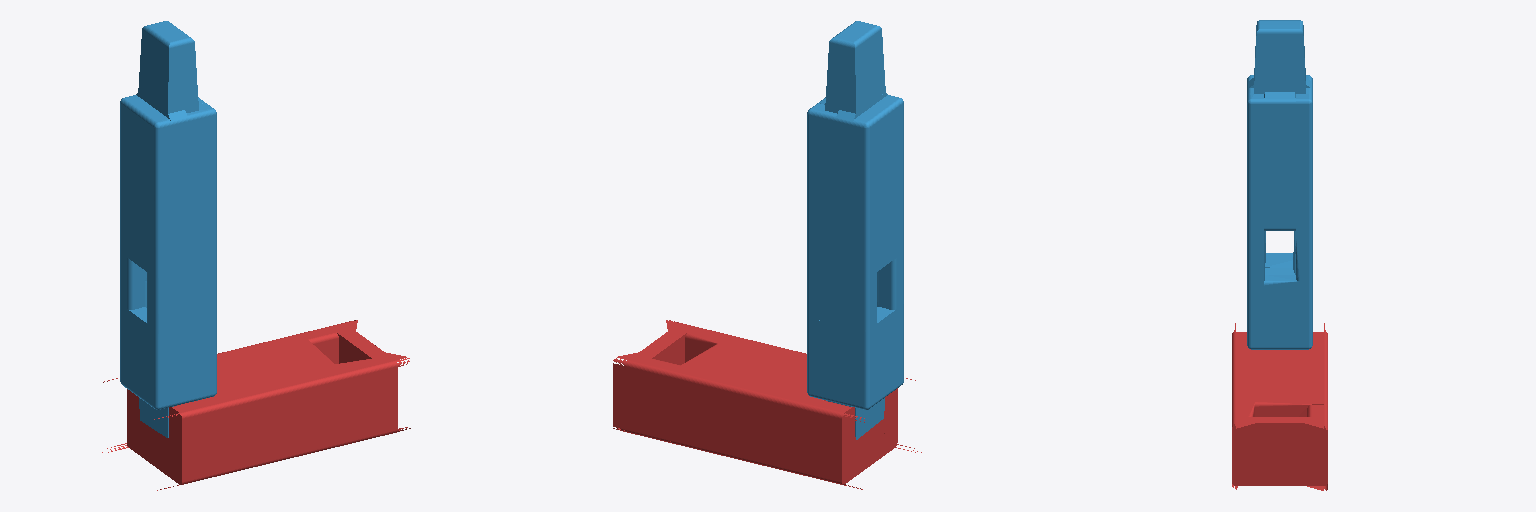
robot.urdf — fixture_beam_3x_part_0:
<?xml version="1.0" encoding="utf-8"?>
<robot name="fixture_beam_3x_part_0">
  <link name="root"/>
  <material name="part_6">
    <color rgba="0.8500 0.3000 0.3000 1.0000"/>
  </material>
  <link name="part_6">
    <visual>
      <origin xyz="0 0 0" rpy="0 0 0"/>
      <geometry>
        <mesh filename="../6/coacd/decomp_1.obj" scale="1 1 1"/>
      </geometry>
      <material name="part_6"/>
    </visual>
    <collision>
      <origin xyz="0 0 0" rpy="0 0 0"/>
      <geometry>
        <mesh filename="../6/coacd/decomp_1.obj" scale="1 1 1"/>
      </geometry>
    </collision>
    <visual>
      <origin xyz="0 0 0" rpy="0 0 0"/>
      <geometry>
        <mesh filename="../6/coacd/decomp_10.obj" scale="1 1 1"/>
      </geometry>
      <material name="part_6"/>
    </visual>
    <collision>
      <origin xyz="0 0 0" rpy="0 0 0"/>
      <geometry>
        <mesh filename="../6/coacd/decomp_10.obj" scale="1 1 1"/>
      </geometry>
    </collision>
    <visual>
      <origin xyz="0 0 0" rpy="0 0 0"/>
      <geometry>
        <mesh filename="../6/coacd/decomp_11.obj" scale="1 1 1"/>
      </geometry>
      <material name="part_6"/>
    </visual>
    <collision>
      <origin xyz="0 0 0" rpy="0 0 0"/>
      <geometry>
        <mesh filename="../6/coacd/decomp_11.obj" scale="1 1 1"/>
      </geometry>
    </collision>
    <visual>
      <origin xyz="0 0 0" rpy="0 0 0"/>
      <geometry>
        <mesh filename="../6/coacd/decomp_2.obj" scale="1 1 1"/>
      </geometry>
      <material name="part_6"/>
    </visual>
    <collision>
      <origin xyz="0 0 0" rpy="0 0 0"/>
      <geometry>
        <mesh filename="../6/coacd/decomp_2.obj" scale="1 1 1"/>
      </geometry>
    </collision>
    <visual>
      <origin xyz="0 0 0" rpy="0 0 0"/>
      <geometry>
        <mesh filename="../6/coacd/decomp_4.obj" scale="1 1 1"/>
      </geometry>
      <material name="part_6"/>
    </visual>
    <collision>
      <origin xyz="0 0 0" rpy="0 0 0"/>
      <geometry>
        <mesh filename="../6/coacd/decomp_4.obj" scale="1 1 1"/>
      </geometry>
    </collision>
    <visual>
      <origin xyz="0 0 0" rpy="0 0 0"/>
      <geometry>
        <mesh filename="../6/coacd/decomp_5.obj" scale="1 1 1"/>
      </geometry>
      <material name="part_6"/>
    </visual>
    <collision>
      <origin xyz="0 0 0" rpy="0 0 0"/>
      <geometry>
        <mesh filename="../6/coacd/decomp_5.obj" scale="1 1 1"/>
      </geometry>
    </collision>
    <visual>
      <origin xyz="0 0 0" rpy="0 0 0"/>
      <geometry>
        <mesh filename="../6/coacd/decomp_6.obj" scale="1 1 1"/>
      </geometry>
      <material name="part_6"/>
    </visual>
    <collision>
      <origin xyz="0 0 0" rpy="0 0 0"/>
      <geometry>
        <mesh filename="../6/coacd/decomp_6.obj" scale="1 1 1"/>
      </geometry>
    </collision>
    <visual>
      <origin xyz="0 0 0" rpy="0 0 0"/>
      <geometry>
        <mesh filename="../6/coacd/decomp_8.obj" scale="1 1 1"/>
      </geometry>
      <material name="part_6"/>
    </visual>
    <collision>
      <origin xyz="0 0 0" rpy="0 0 0"/>
      <geometry>
        <mesh filename="../6/coacd/decomp_8.obj" scale="1 1 1"/>
      </geometry>
    </collision>
    <visual>
      <origin xyz="0 0 0" rpy="0 0 0"/>
      <geometry>
        <mesh filename="../6/coacd/decomp_9.obj" scale="1 1 1"/>
      </geometry>
      <material name="part_6"/>
    </visual>
    <collision>
      <origin xyz="0 0 0" rpy="0 0 0"/>
      <geometry>
        <mesh filename="../6/coacd/decomp_9.obj" scale="1 1 1"/>
      </geometry>
    </collision>
  </link>
  <joint name="root_to_part_6" type="fixed">
    <parent link="root"/>
    <child link="part_6"/>
    <origin xyz="-0.000000 -0.000000 0.018998" rpy="0.000000 0.000000 0.000000"/>
  </joint>
  <material name="part_2">
    <color rgba="0.3000 0.6500 0.8500 1.0000"/>
  </material>
  <link name="part_2">
    <visual>
      <origin xyz="0 0 0" rpy="0 0 0"/>
      <geometry>
        <mesh filename="../2/coacd/decomp_0.obj" scale="1 1 1"/>
      </geometry>
      <material name="part_2"/>
    </visual>
    <collision>
      <origin xyz="0 0 0" rpy="0 0 0"/>
      <geometry>
        <mesh filename="../2/coacd/decomp_0.obj" scale="1 1 1"/>
      </geometry>
    </collision>
    <visual>
      <origin xyz="0 0 0" rpy="0 0 0"/>
      <geometry>
        <mesh filename="../2/coacd/decomp_1.obj" scale="1 1 1"/>
      </geometry>
      <material name="part_2"/>
    </visual>
    <collision>
      <origin xyz="0 0 0" rpy="0 0 0"/>
      <geometry>
        <mesh filename="../2/coacd/decomp_1.obj" scale="1 1 1"/>
      </geometry>
    </collision>
    <visual>
      <origin xyz="0 0 0" rpy="0 0 0"/>
      <geometry>
        <mesh filename="../2/coacd/decomp_10.obj" scale="1 1 1"/>
      </geometry>
      <material name="part_2"/>
    </visual>
    <collision>
      <origin xyz="0 0 0" rpy="0 0 0"/>
      <geometry>
        <mesh filename="../2/coacd/decomp_10.obj" scale="1 1 1"/>
      </geometry>
    </collision>
    <visual>
      <origin xyz="0 0 0" rpy="0 0 0"/>
      <geometry>
        <mesh filename="../2/coacd/decomp_11.obj" scale="1 1 1"/>
      </geometry>
      <material name="part_2"/>
    </visual>
    <collision>
      <origin xyz="0 0 0" rpy="0 0 0"/>
      <geometry>
        <mesh filename="../2/coacd/decomp_11.obj" scale="1 1 1"/>
      </geometry>
    </collision>
    <visual>
      <origin xyz="0 0 0" rpy="0 0 0"/>
      <geometry>
        <mesh filename="../2/coacd/decomp_12.obj" scale="1 1 1"/>
      </geometry>
      <material name="part_2"/>
    </visual>
    <collision>
      <origin xyz="0 0 0" rpy="0 0 0"/>
      <geometry>
        <mesh filename="../2/coacd/decomp_12.obj" scale="1 1 1"/>
      </geometry>
    </collision>
    <visual>
      <origin xyz="0 0 0" rpy="0 0 0"/>
      <geometry>
        <mesh filename="../2/coacd/decomp_13.obj" scale="1 1 1"/>
      </geometry>
      <material name="part_2"/>
    </visual>
    <collision>
      <origin xyz="0 0 0" rpy="0 0 0"/>
      <geometry>
        <mesh filename="../2/coacd/decomp_13.obj" scale="1 1 1"/>
      </geometry>
    </collision>
    <visual>
      <origin xyz="0 0 0" rpy="0 0 0"/>
      <geometry>
        <mesh filename="../2/coacd/decomp_14.obj" scale="1 1 1"/>
      </geometry>
      <material name="part_2"/>
    </visual>
    <collision>
      <origin xyz="0 0 0" rpy="0 0 0"/>
      <geometry>
        <mesh filename="../2/coacd/decomp_14.obj" scale="1 1 1"/>
      </geometry>
    </collision>
    <visual>
      <origin xyz="0 0 0" rpy="0 0 0"/>
      <geometry>
        <mesh filename="../2/coacd/decomp_15.obj" scale="1 1 1"/>
      </geometry>
      <material name="part_2"/>
    </visual>
    <collision>
      <origin xyz="0 0 0" rpy="0 0 0"/>
      <geometry>
        <mesh filename="../2/coacd/decomp_15.obj" scale="1 1 1"/>
      </geometry>
    </collision>
    <visual>
      <origin xyz="0 0 0" rpy="0 0 0"/>
      <geometry>
        <mesh filename="../2/coacd/decomp_2.obj" scale="1 1 1"/>
      </geometry>
      <material name="part_2"/>
    </visual>
    <collision>
      <origin xyz="0 0 0" rpy="0 0 0"/>
      <geometry>
        <mesh filename="../2/coacd/decomp_2.obj" scale="1 1 1"/>
      </geometry>
    </collision>
    <visual>
      <origin xyz="0 0 0" rpy="0 0 0"/>
      <geometry>
        <mesh filename="../2/coacd/decomp_3.obj" scale="1 1 1"/>
      </geometry>
      <material name="part_2"/>
    </visual>
    <collision>
      <origin xyz="0 0 0" rpy="0 0 0"/>
      <geometry>
        <mesh filename="../2/coacd/decomp_3.obj" scale="1 1 1"/>
      </geometry>
    </collision>
    <visual>
      <origin xyz="0 0 0" rpy="0 0 0"/>
      <geometry>
        <mesh filename="../2/coacd/decomp_4.obj" scale="1 1 1"/>
      </geometry>
      <material name="part_2"/>
    </visual>
    <collision>
      <origin xyz="0 0 0" rpy="0 0 0"/>
      <geometry>
        <mesh filename="../2/coacd/decomp_4.obj" scale="1 1 1"/>
      </geometry>
    </collision>
    <visual>
      <origin xyz="0 0 0" rpy="0 0 0"/>
      <geometry>
        <mesh filename="../2/coacd/decomp_5.obj" scale="1 1 1"/>
      </geometry>
      <material name="part_2"/>
    </visual>
    <collision>
      <origin xyz="0 0 0" rpy="0 0 0"/>
      <geometry>
        <mesh filename="../2/coacd/decomp_5.obj" scale="1 1 1"/>
      </geometry>
    </collision>
    <visual>
      <origin xyz="0 0 0" rpy="0 0 0"/>
      <geometry>
        <mesh filename="../2/coacd/decomp_6.obj" scale="1 1 1"/>
      </geometry>
      <material name="part_2"/>
    </visual>
    <collision>
      <origin xyz="0 0 0" rpy="0 0 0"/>
      <geometry>
        <mesh filename="../2/coacd/decomp_6.obj" scale="1 1 1"/>
      </geometry>
    </collision>
    <visual>
      <origin xyz="0 0 0" rpy="0 0 0"/>
      <geometry>
        <mesh filename="../2/coacd/decomp_7.obj" scale="1 1 1"/>
      </geometry>
      <material name="part_2"/>
    </visual>
    <collision>
      <origin xyz="0 0 0" rpy="0 0 0"/>
      <geometry>
        <mesh filename="../2/coacd/decomp_7.obj" scale="1 1 1"/>
      </geometry>
    </collision>
    <visual>
      <origin xyz="0 0 0" rpy="0 0 0"/>
      <geometry>
        <mesh filename="../2/coacd/decomp_8.obj" scale="1 1 1"/>
      </geometry>
      <material name="part_2"/>
    </visual>
    <collision>
      <origin xyz="0 0 0" rpy="0 0 0"/>
      <geometry>
        <mesh filename="../2/coacd/decomp_8.obj" scale="1 1 1"/>
      </geometry>
    </collision>
    <visual>
      <origin xyz="0 0 0" rpy="0 0 0"/>
      <geometry>
        <mesh filename="../2/coacd/decomp_9.obj" scale="1 1 1"/>
      </geometry>
      <material name="part_2"/>
    </visual>
    <collision>
      <origin xyz="0 0 0" rpy="0 0 0"/>
      <geometry>
        <mesh filename="../2/coacd/decomp_9.obj" scale="1 1 1"/>
      </geometry>
    </collision>
  </link>
  <joint name="root_to_part_2" type="fixed">
    <parent link="root"/>
    <child link="part_2"/>
    <origin xyz="-0.047625 -0.000000 0.113075" rpy="0.000000 -1.570796 0.000000"/>
  </joint>
</robot>

--- What the picture shows (computed from the rendered views, not written in the file) ---
3 views of the same robot in one strip: view 1: azimuth 30°, elevation 25°; view 2: azimuth 150°, elevation 25°; view 3: azimuth 270°, elevation 25° (orthographic).
Model fixture_beam_3x_part_0 with 3 links and 2 joints (2 fixed), rooted at root, posed all joints at 0.
Visible links, largest first — view 1: part_2, part_6; view 2: part_2, part_6; view 3: part_2, part_6.
Boxes of the visible links, x1,y1,x2,y2 form: part_2: [120, 21, 216, 437]; part_6: [102, 320, 410, 490]; part_2: [807, 21, 903, 439]; part_6: [613, 320, 921, 489]; part_2: [1247, 20, 1312, 349]; part_6: [1232, 323, 1327, 490].
Bounding box of the posed robot: 0.1415 × 0.0533 × 0.2286 m (x, y, z).
25 mesh visuals loaded from 25 distinct referenced files (25 OBJ).
